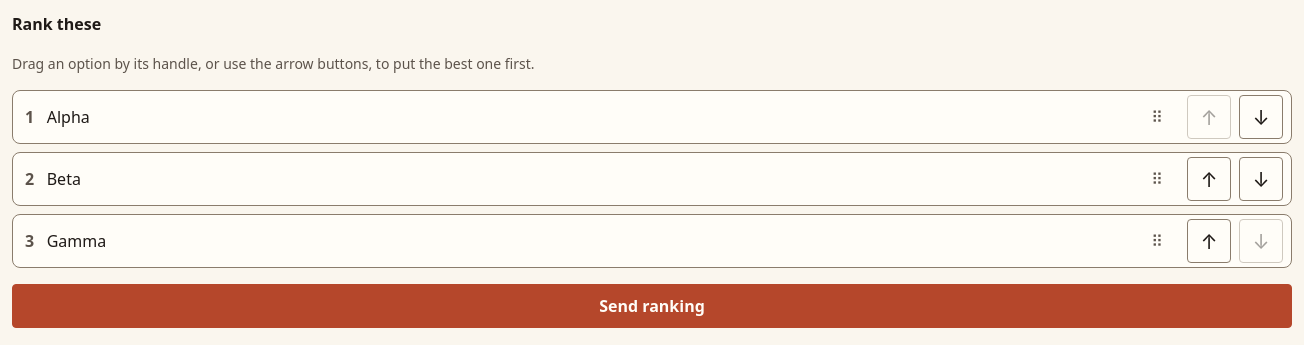
Test: sends the order, shows 'Answer sent' and locks the list
What coordinates should you click on to do the following:
click the button named "Move Gamma up, currently position 3 of 3"
I would click on:
 (1209, 242)
Its box is top-left (1187, 220), bottom-right (1231, 264).
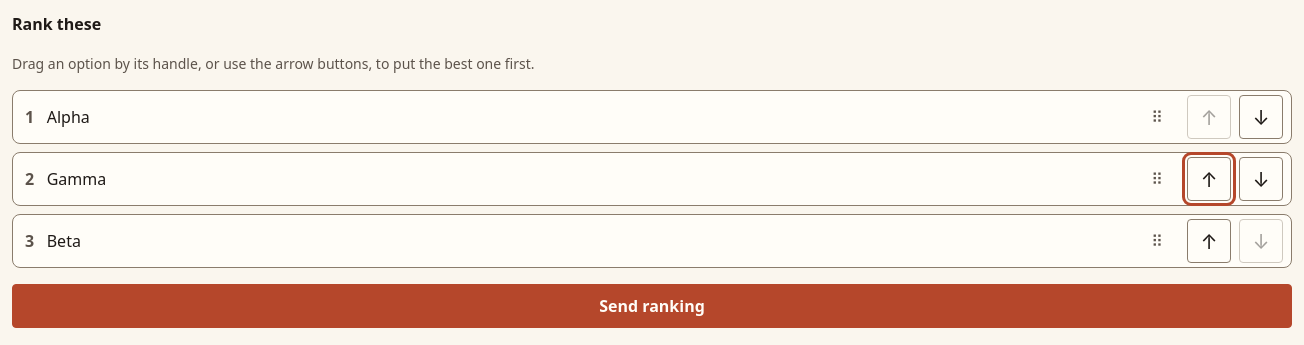
What coordinates should you click on to do the following:
click the button "Send ranking"
I would click on:
 (652, 306)
Its box is top-left (12, 284), bottom-right (1292, 328).
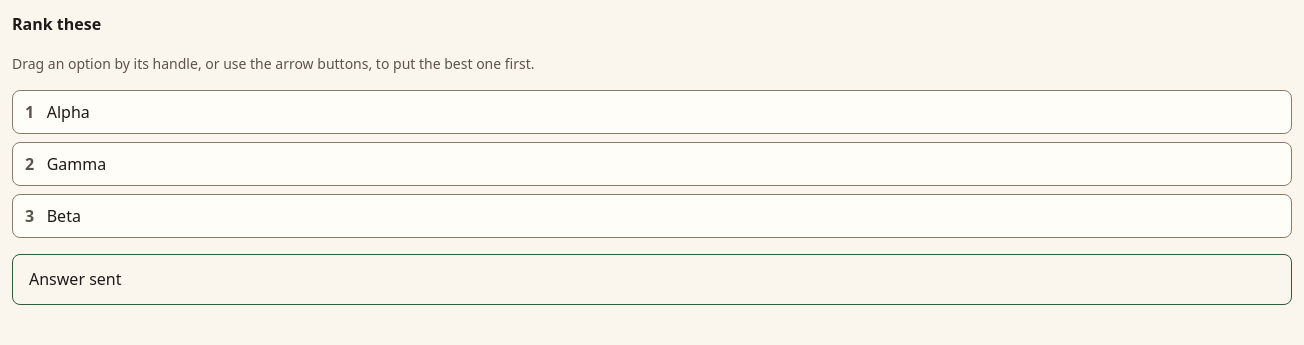
expect the text "Answer sent" is shown: met, box top-left (12, 254), bottom-right (1292, 305)
expect the button "Send ranking" is gone: met
